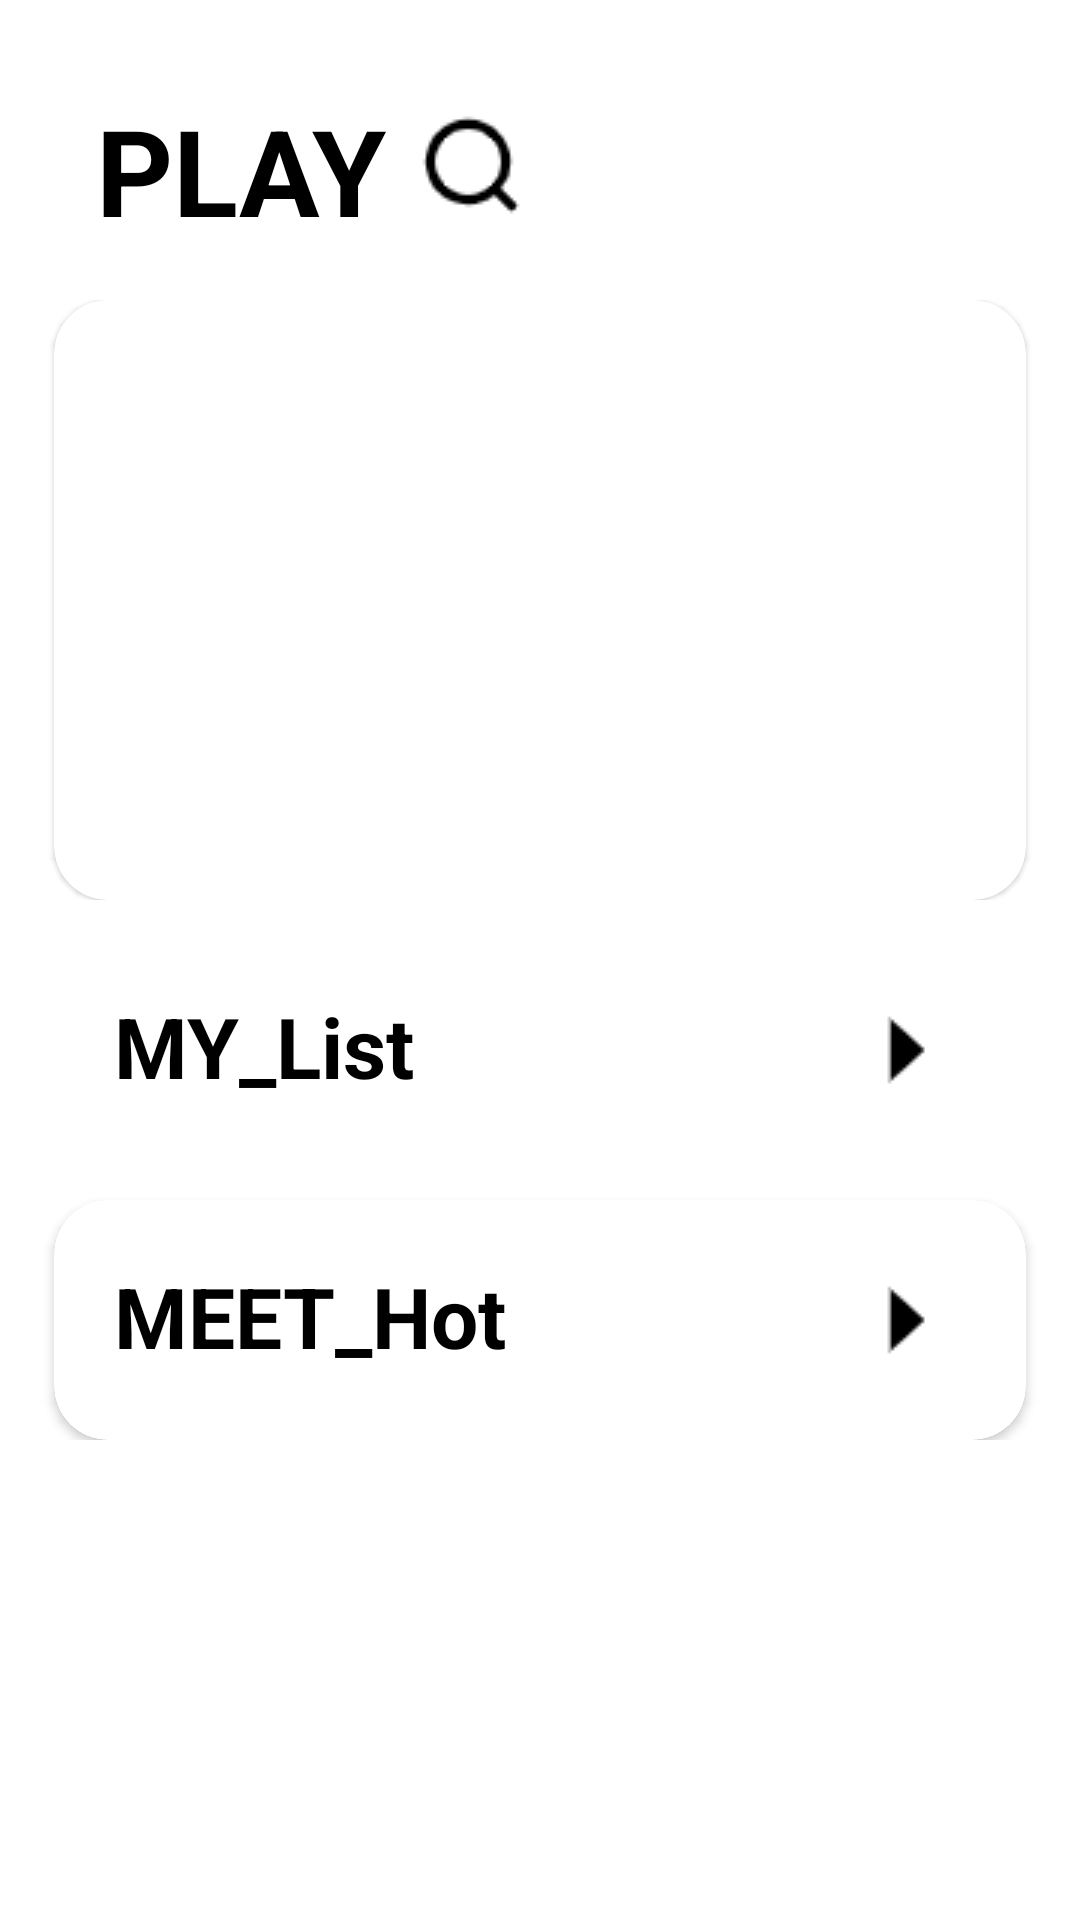

Locate icon controls on the screen. Image size 1080x1920, boxes as rect(x1, y1, x2, y2).
right: rect(888, 1017, 925, 1083), rect(888, 1287, 925, 1353)
search: rect(423, 117, 519, 213)
